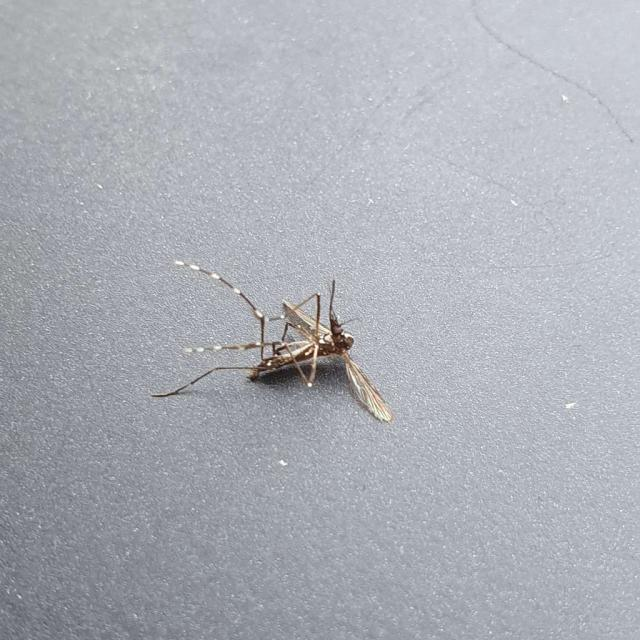albopictus: (152, 252, 394, 426)
